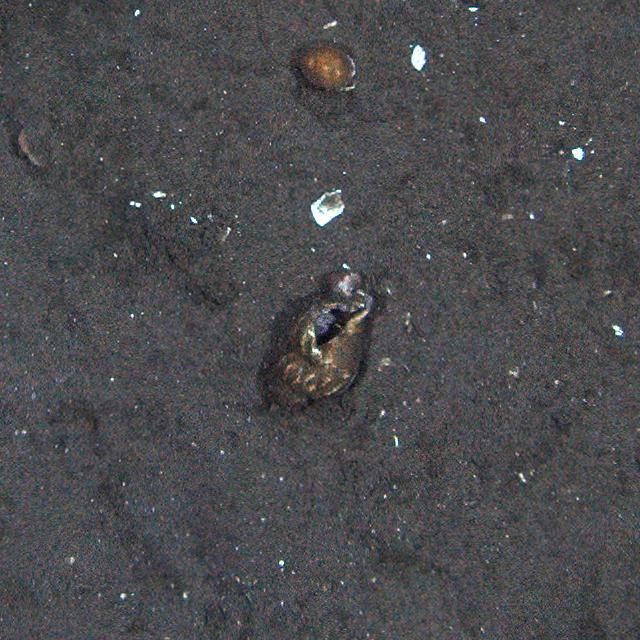whelk: (270, 286, 378, 408)
